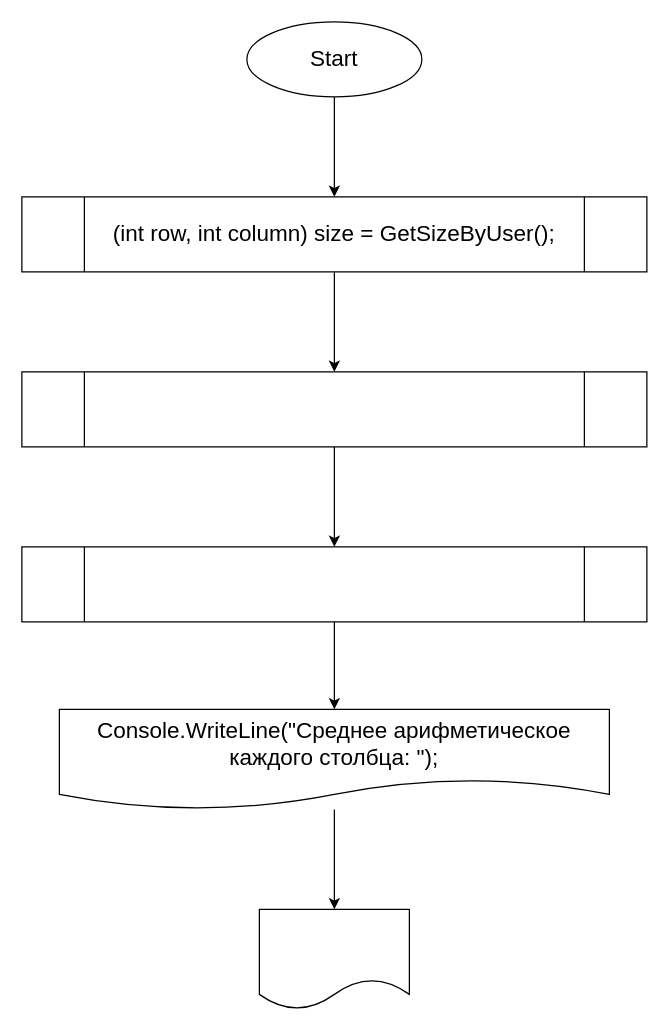
This 669x1031 diagram has some shape labels left out. Each missing label, with the box of its shape:
int[,] matrix = GenerateMatrix(size.row, size.column);: (21, 371, 647, 447)
string rez = Averange(matrix);: (21, 546, 647, 622)
